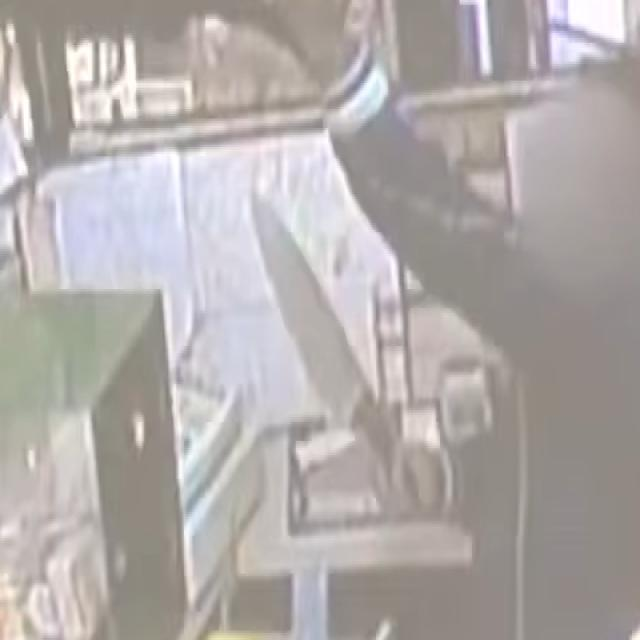Fknife: (244, 172, 394, 502)
